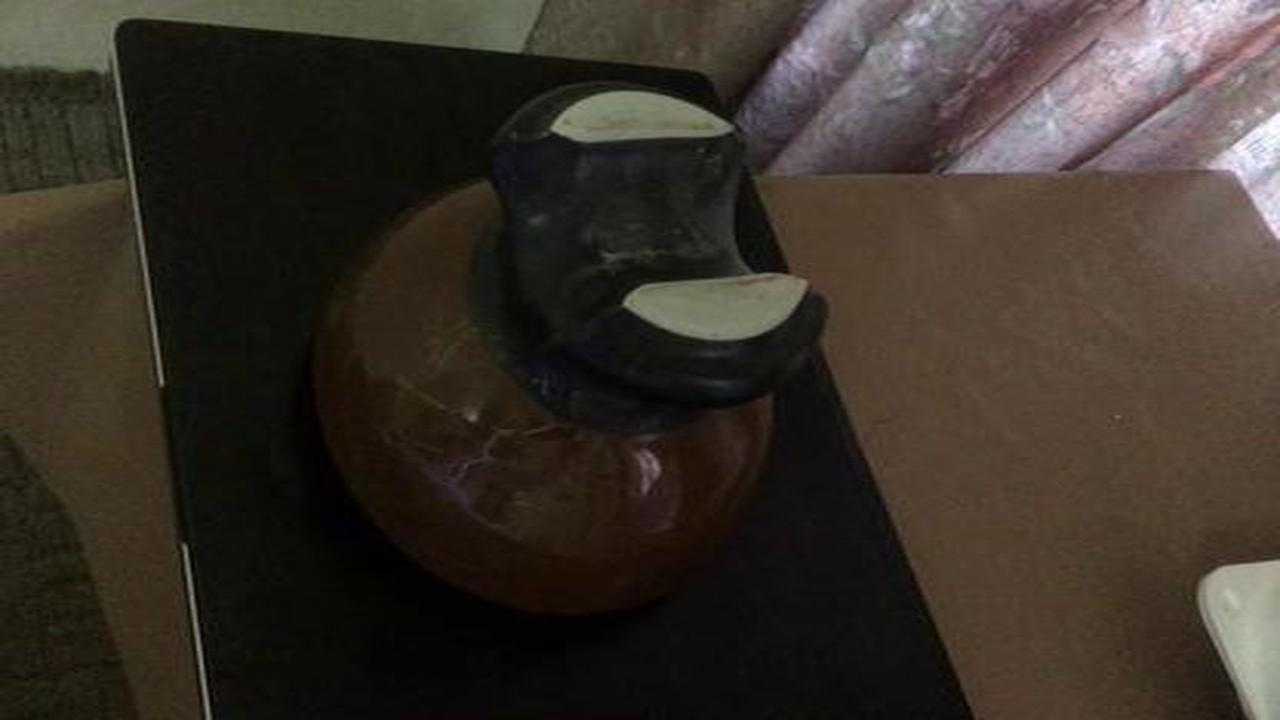insulator_pin: (299, 65, 847, 643)
